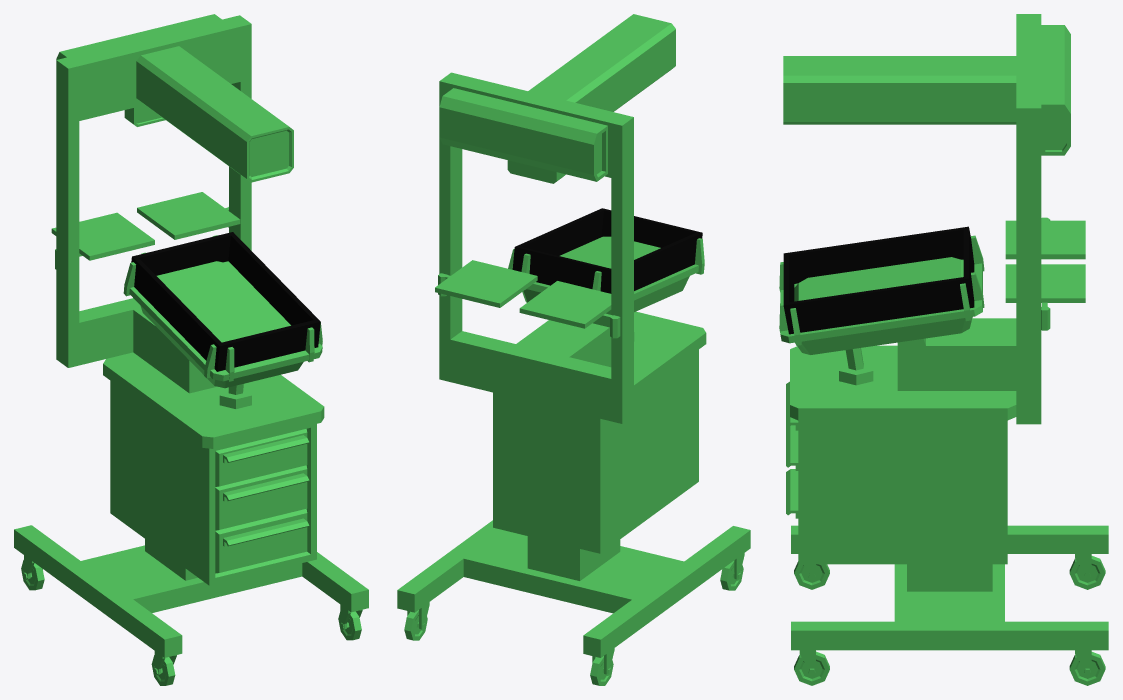
File: Ph_cradle.fbx
3 views of the same model, side by side, from view 1: azimuth 30°, elevation 25°; view 2: azimuth 150°, elevation 25°; view 3: azimuth 270°, elevation 25° (orthographic). The views are drawn at different scales.
Parts seen in each view (by area): view 1: Symmetry_6; view 2: Symmetry_6; view 3: Symmetry_6.
Boxes of the visible parts, box(x1,y1,x2,y2) form: Symmetry_6: box(14, 14, 368, 685); Symmetry_6: box(397, 14, 750, 685); Symmetry_6: box(779, 14, 1108, 685).
Size of the model in its own units: 77.97 by 199 by 103.
